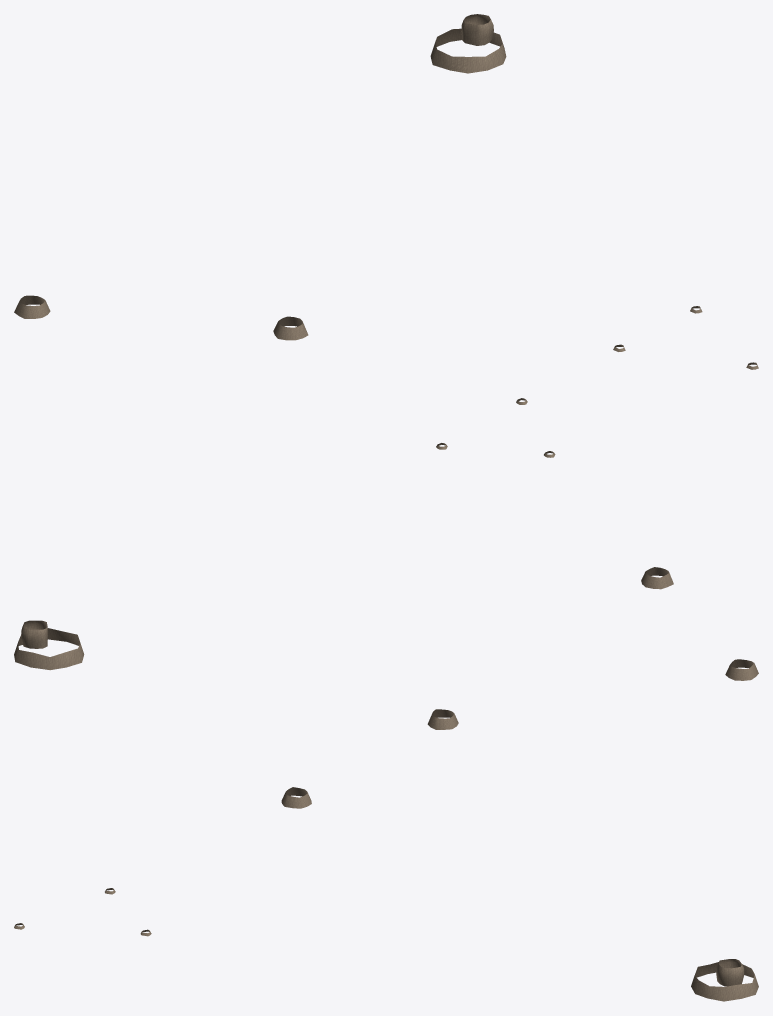
Rendered from kd_connection_world-inner_surface_8_1.glb.
3 renders of one model, top to bottom at view 1: azimuth 30°, elevation 25°; view 2: azimuth 150°, elevation 25°; view 3: azimuth 270°, elevation 25°, orthographic. The views are drawn at different scales.
Parts seen in each view (by area): view 1: kd_connection_world-inner_surface_8_1; view 2: kd_connection_world-inner_surface_8_1; view 3: kd_connection_world-inner_surface_8_1.
Part boxes in pixels (x1,y1,x2,y2): kd_connection_world-inner_surface_8_1: (14, 14, 758, 369); kd_connection_world-inner_surface_8_1: (14, 398, 758, 680); kd_connection_world-inner_surface_8_1: (14, 709, 758, 1001).
Size of the model in its own units: 1284 by 61.24 by 1456.
1 material, 1 textured.
